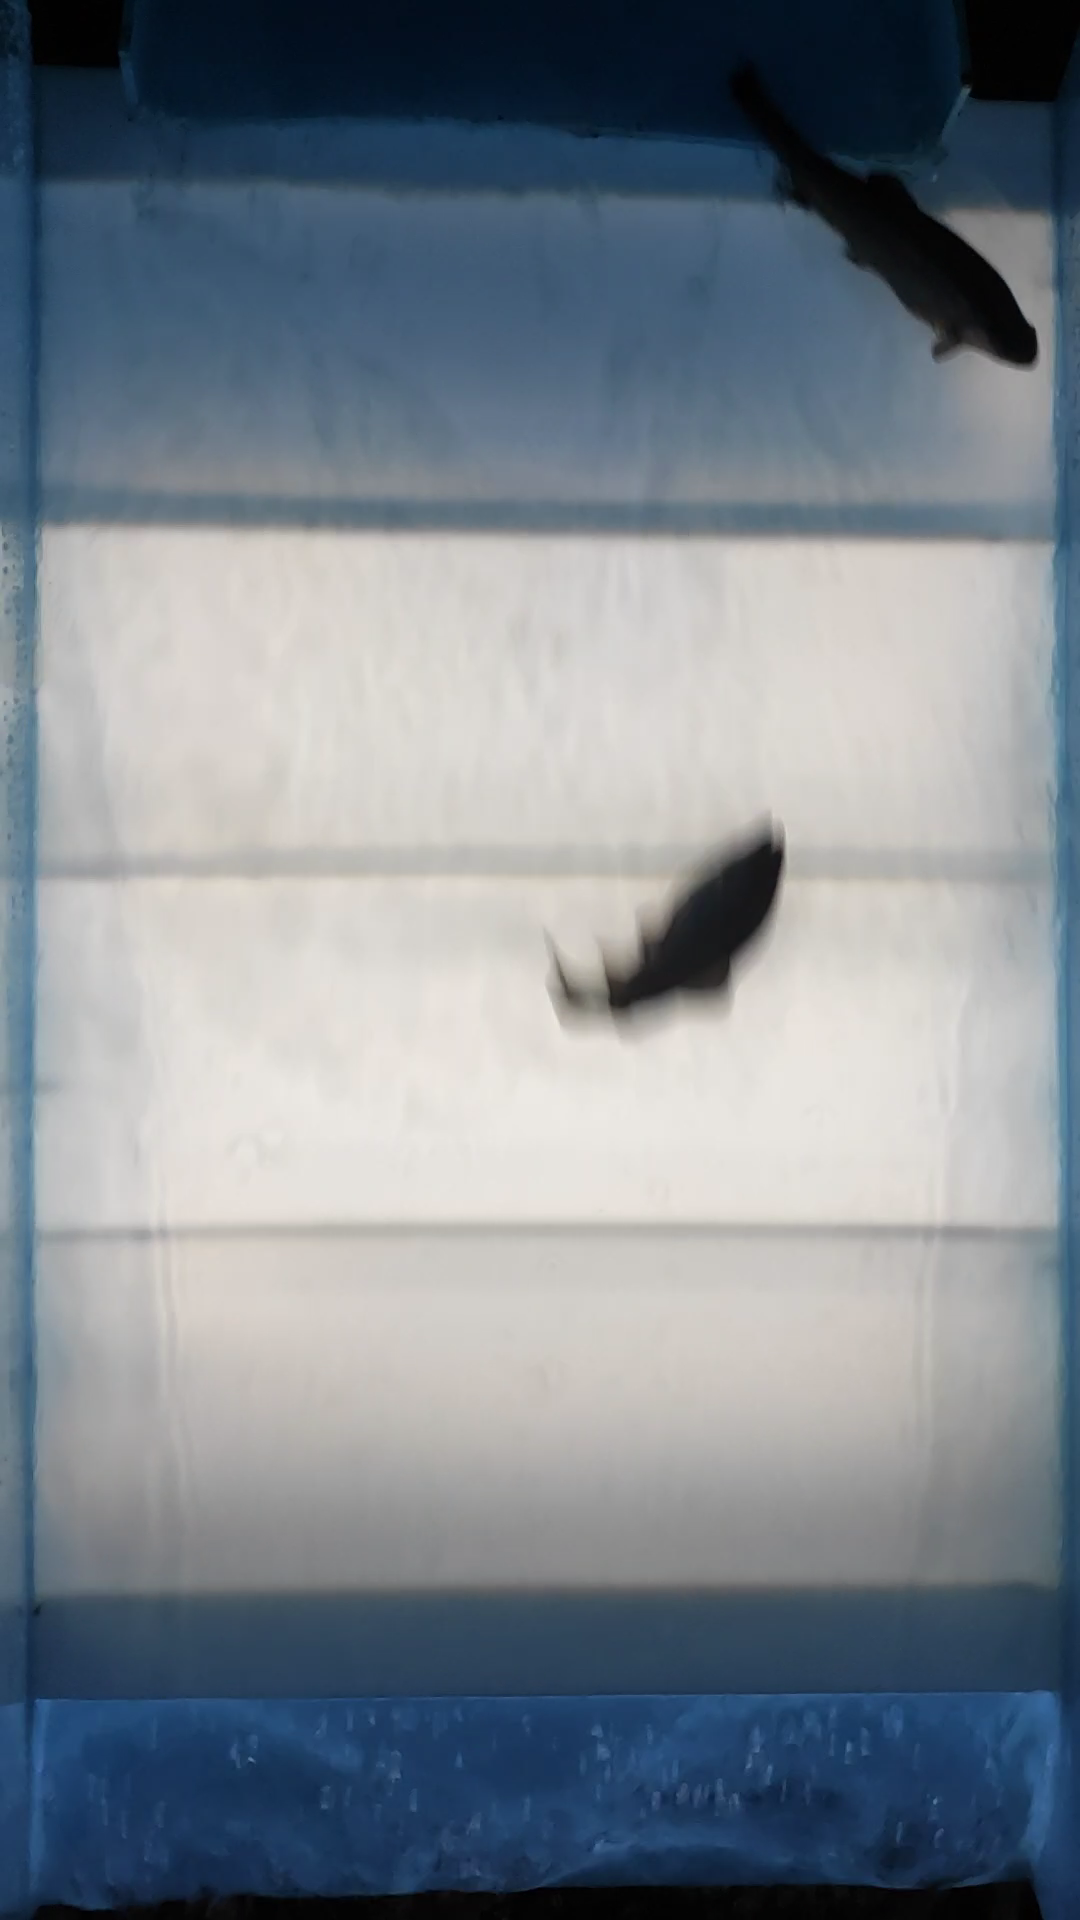fish: (719, 48, 1039, 374), (545, 821, 787, 1024)
